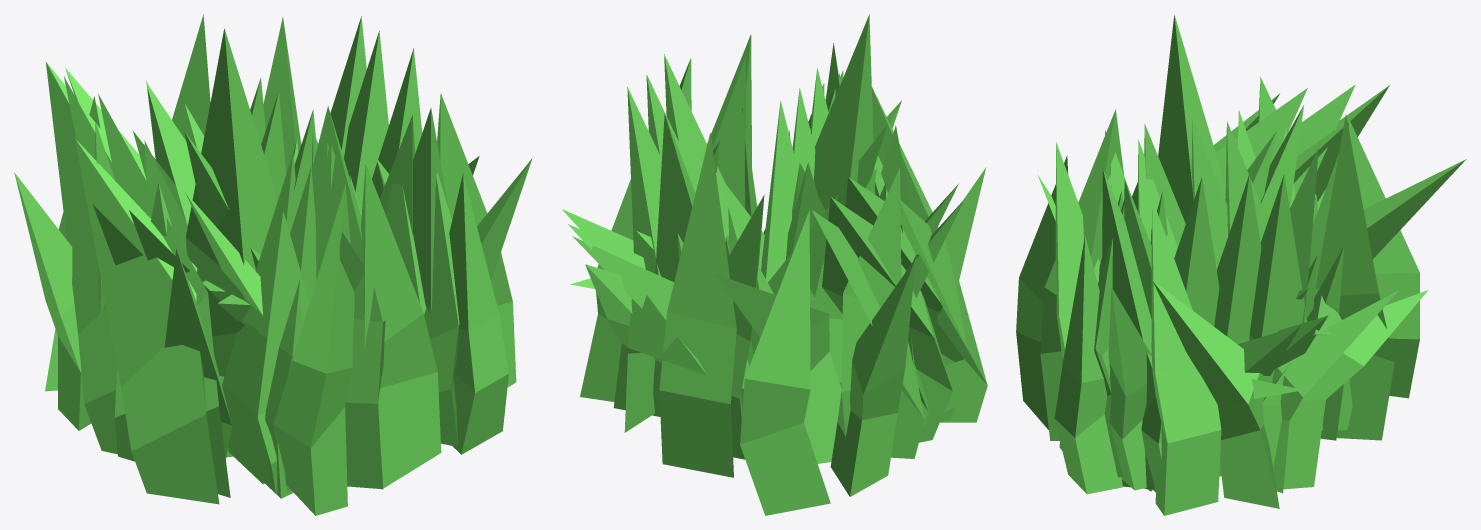
The model's file is grass.fbx.
The picture shows the model from 3 angles, left to right: view 1: azimuth 30°, elevation 25°; view 2: azimuth 150°, elevation 25°; view 3: azimuth 270°, elevation 25°; orthographic projection. The views are drawn at different scales.
Parts seen in each view (by area): view 1: Cone.018, Cone.007, Cone.019, Cone.062, Cone.030, Cone.042, Cone.026, Cone.028, Cone.005; view 2: Cone.018, Cone.030, Cone.007, Cone.019, Cone.062, Cone.042, Cone.026, Cone.028, Cone.066; view 3: Cone.018, Cone.007, Cone.030, Cone.062, Cone.019, Cone.026, Cone.042, Cone.028.
Boxes of the visible parts, bbox=[...] form: Cone.018: bbox=[45, 48, 516, 515]; Cone.007: bbox=[65, 17, 479, 504]; Cone.019: bbox=[45, 16, 388, 484]; Cone.062: bbox=[64, 30, 532, 498]; Cone.030: bbox=[144, 14, 415, 493]; Cone.042: bbox=[14, 172, 459, 457]; Cone.026: bbox=[145, 81, 328, 315]; Cone.028: bbox=[93, 104, 426, 317]; Cone.005: bbox=[218, 175, 361, 321]; Cone.018: bbox=[624, 54, 963, 515]; Cone.030: bbox=[585, 57, 986, 477]; Cone.007: bbox=[580, 14, 987, 463]; Cone.019: bbox=[627, 83, 924, 458]; Cone.062: bbox=[572, 70, 952, 442]; Cone.042: bbox=[562, 184, 958, 496]; Cone.026: bbox=[570, 73, 928, 459]; Cone.028: bbox=[568, 108, 964, 297]; Cone.066: bbox=[720, 177, 764, 269]; Cone.018: bbox=[1016, 77, 1428, 515]; Cone.007: bbox=[1040, 15, 1466, 508]; Cone.030: bbox=[1037, 110, 1398, 493]; Cone.062: bbox=[1103, 84, 1355, 490]; Cone.019: bbox=[1132, 85, 1389, 492]; Cone.026: bbox=[1110, 105, 1343, 491]; Cone.042: bbox=[1094, 189, 1325, 477]; Cone.028: bbox=[1140, 131, 1344, 369].
Bounding box in the file's own units: 10.08 × 9.64 × 9.85.
